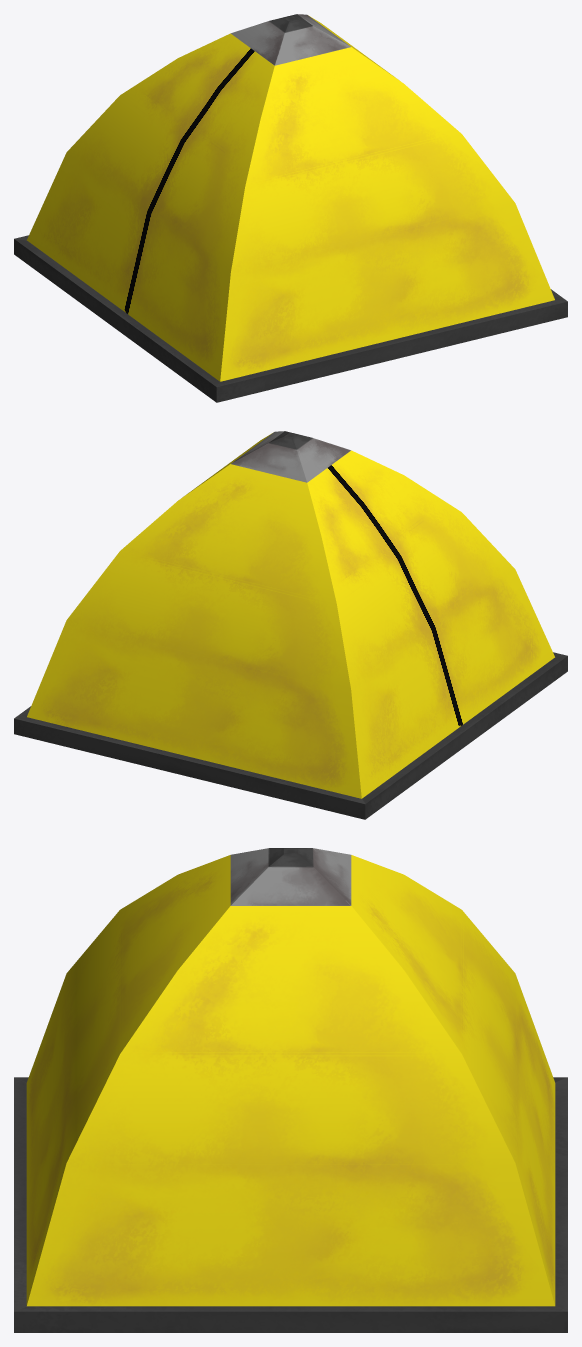
The model's file is Tent Closed.fbx.
3 views of the same model, one above another, from view 1: azimuth 30°, elevation 25°; view 2: azimuth 150°, elevation 25°; view 3: azimuth 270°, elevation 25° (orthographic). The views are drawn at different scales.
Parts seen in each view (by area): view 1: Tent Closed; view 2: Tent Closed; view 3: Tent Closed.
Part boxes in pixels (<box>): Tent Closed: <box>14,14,567,402</box>; Tent Closed: <box>14,431,567,819</box>; Tent Closed: <box>14,848,567,1332</box>.
Size of the model in its own units: 197 by 143 by 197.
